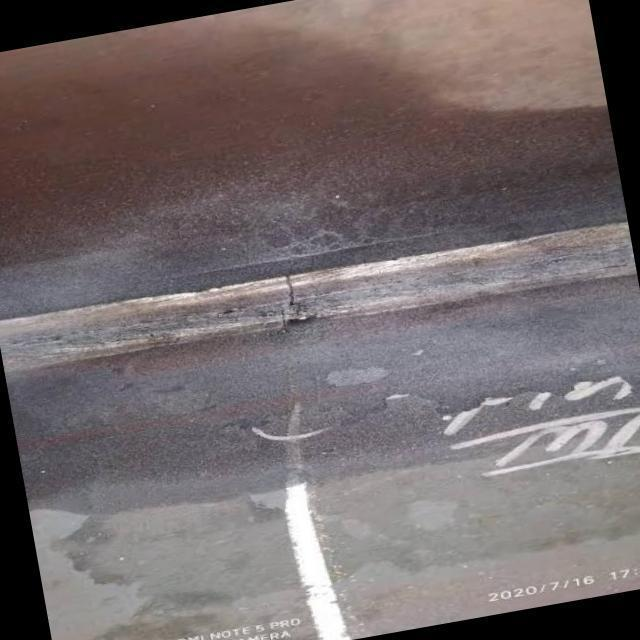defect: (279, 271, 307, 316)
